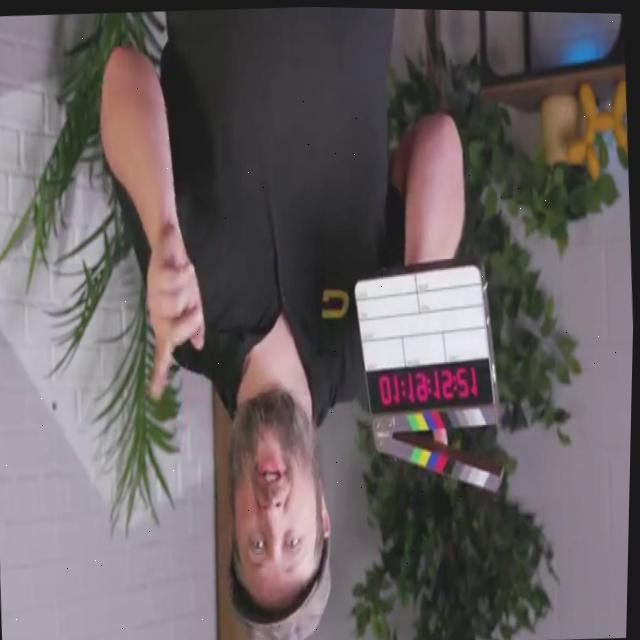Clapperboard: (344, 251, 508, 504)
